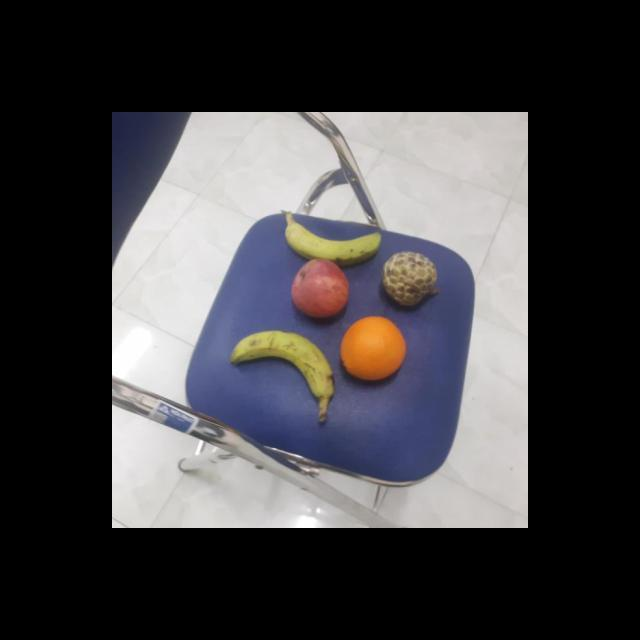Sakya fruit: (378, 250, 439, 306)
apple: (288, 258, 351, 318)
banana: (228, 328, 336, 398), (283, 220, 381, 266)
orange: (339, 316, 411, 384)
